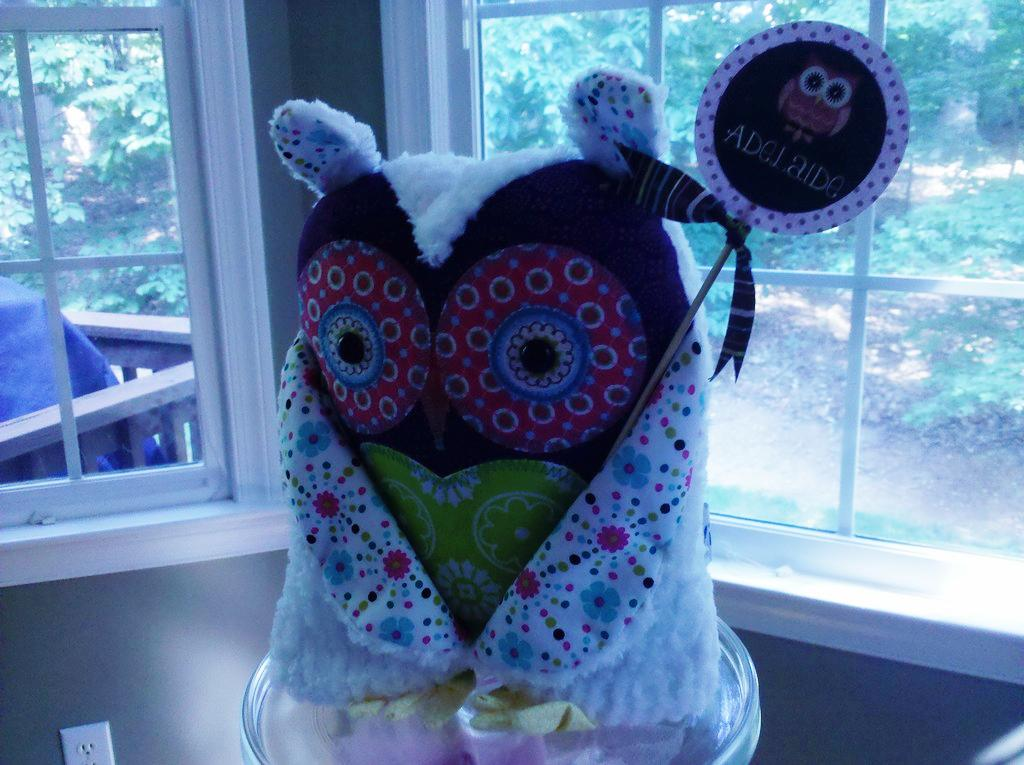Owl: (246, 69, 720, 764)
